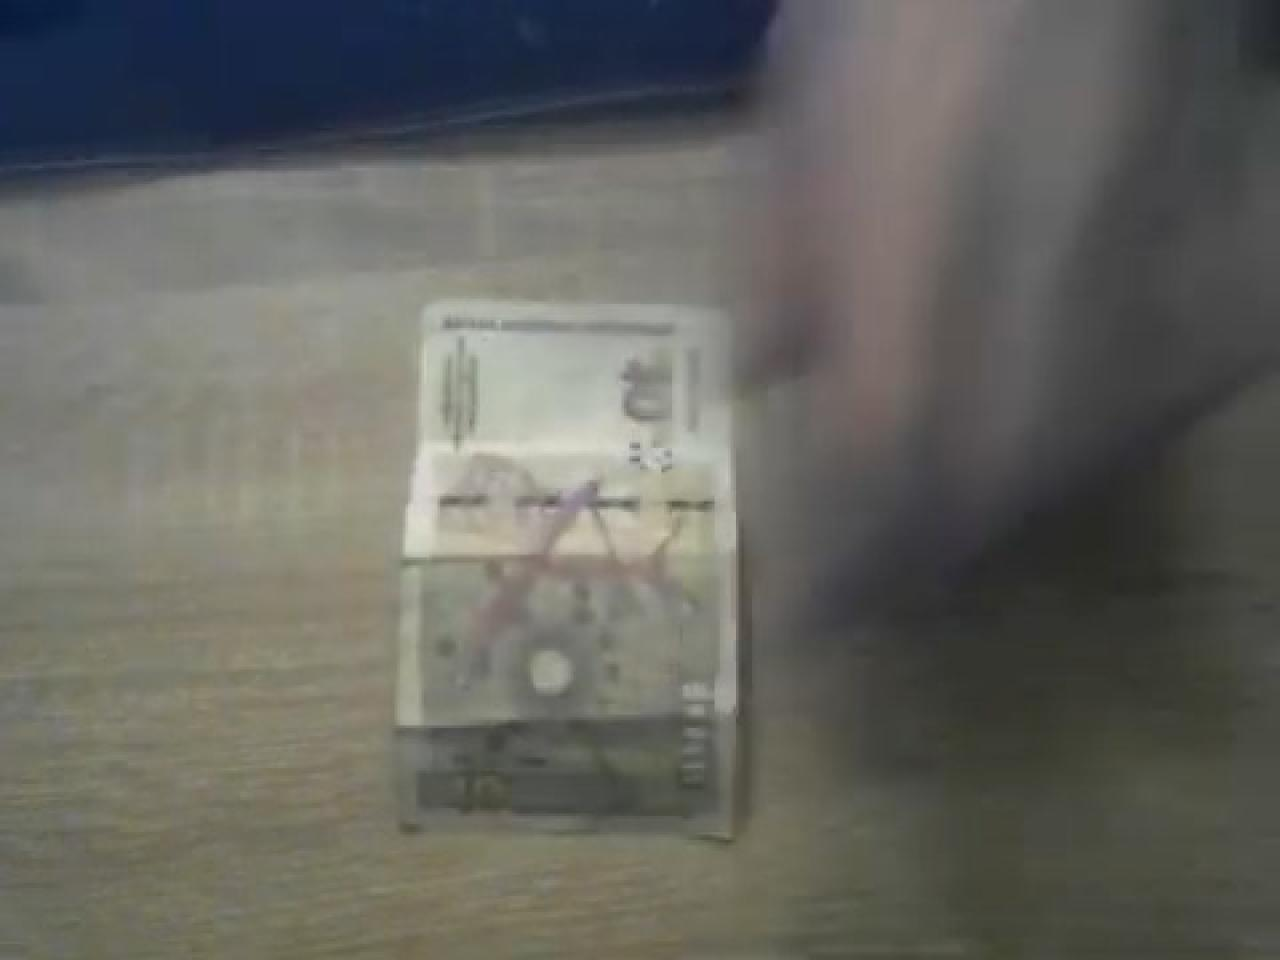10leva: (395, 298, 749, 848)
